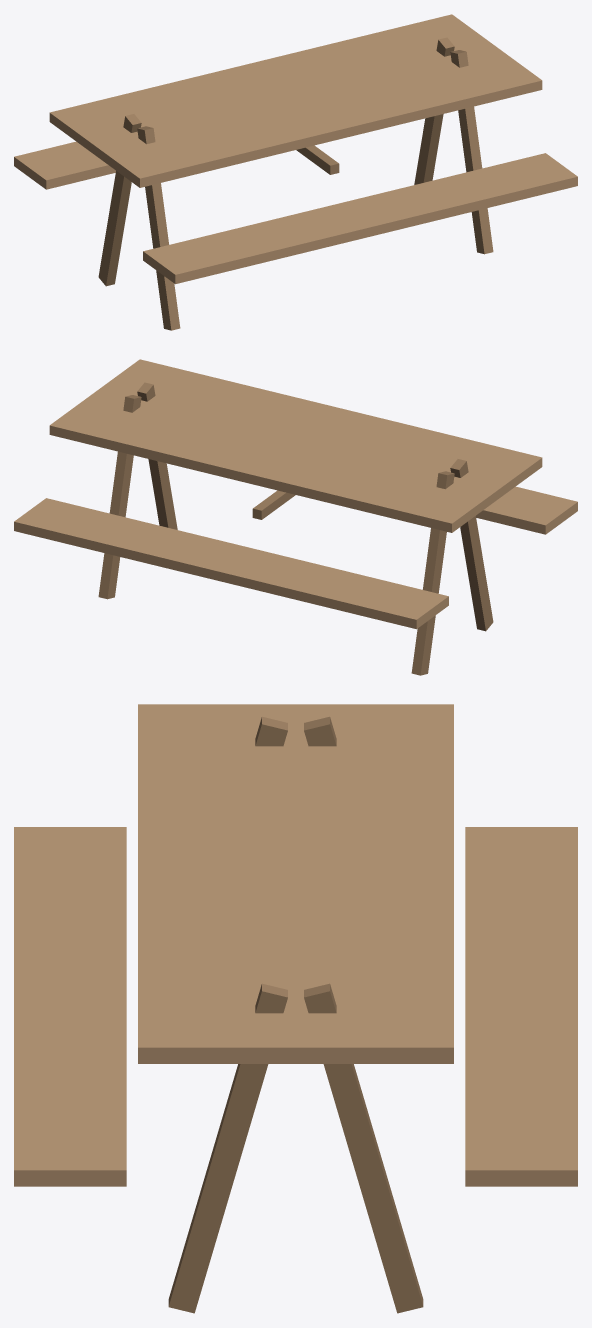
The model's file is picnic_table.glb.
3 views of the same model, one above another, from view 1: azimuth 30°, elevation 25°; view 2: azimuth 150°, elevation 25°; view 3: azimuth 270°, elevation 25° (orthographic). The views are drawn at different scales.
Visible parts, largest first — view 1: tabletop, bench_r, bench_l, leg_l_2, leg_l_1, leg_r_2, leg_r_1, brace; view 2: tabletop, bench_l, bench_r, leg_l_1, leg_l_2, leg_r_1, leg_r_2, brace; view 3: tabletop, bench_l, bench_r, leg_r_1, leg_r_2, leg_l_1, leg_l_2.
Part boxes in pixels (x1,y1,x2,y2): tabletop: (49,14,542,187); bench_r: (143,153,577,284); bench_l: (14,141,115,189); leg_l_2: (137,126,180,330); leg_l_1: (98,114,141,286); leg_r_2: (450,50,493,254); leg_r_1: (414,37,454,184); brace: (296,145,339,174); tabletop: (49,359,542,532); bench_l: (14,498,448,629); bench_r: (476,486,577,534); leg_l_1: (411,471,454,675); leg_l_2: (450,459,493,631); leg_r_1: (98,395,141,599); leg_r_2: (137,382,177,529); brace: (252,490,295,519); tabletop: (138,704,453,1063); bench_l: (465,827,577,1186); bench_r: (14,827,126,1186); leg_r_1: (304,983,423,1313); leg_r_2: (168,983,287,1313); leg_l_1: (304,716,336,746); leg_l_2: (255,716,287,746).
Size of the model in its own units: 1.8 by 0.7883 by 1.25.
